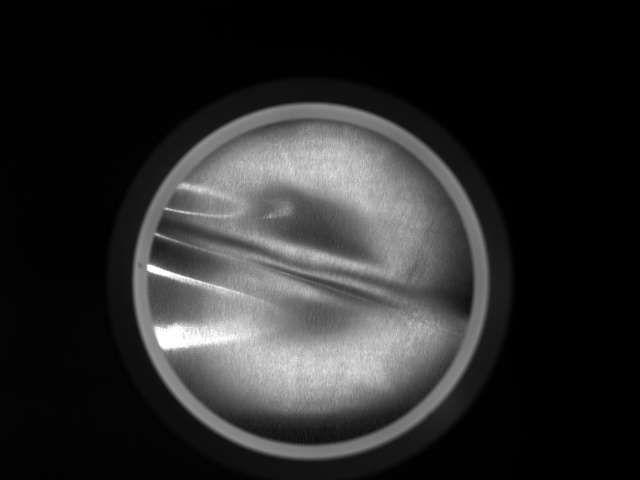zhe_zhou: (178, 160, 441, 400)
